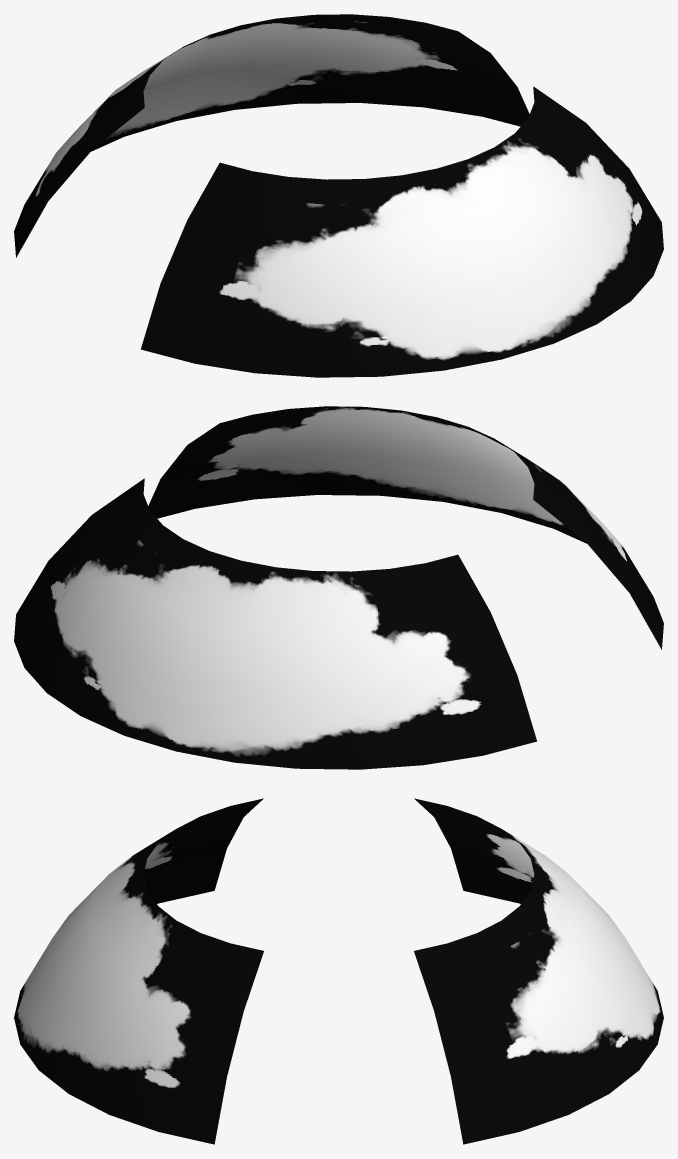
The model's file is Cloud1.obj.
The picture shows the model from 3 angles, top to bottom: view 1: azimuth 30°, elevation 25°; view 2: azimuth 150°, elevation 25°; view 3: azimuth 270°, elevation 25°; orthographic projection.
Visible parts, largest first — view 1: Object003; view 2: Object003; view 3: Object003.
Part boxes in pixels (x1=…): Object003: x1=14, y1=14, x2=663, y2=377; Object003: x1=14, y1=406, x2=663, y2=769; Object003: x1=14, y1=798, x2=663, y2=1144.
Size of the model in its own units: 407 by 107 by 441.
